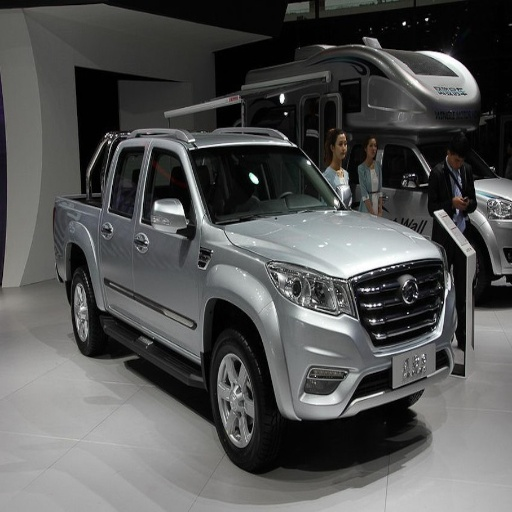front_bumper: (258, 261, 456, 418)
front_right_door: (132, 142, 197, 351)
front_right_light: (269, 262, 350, 314)
trunk: (47, 201, 77, 277)
